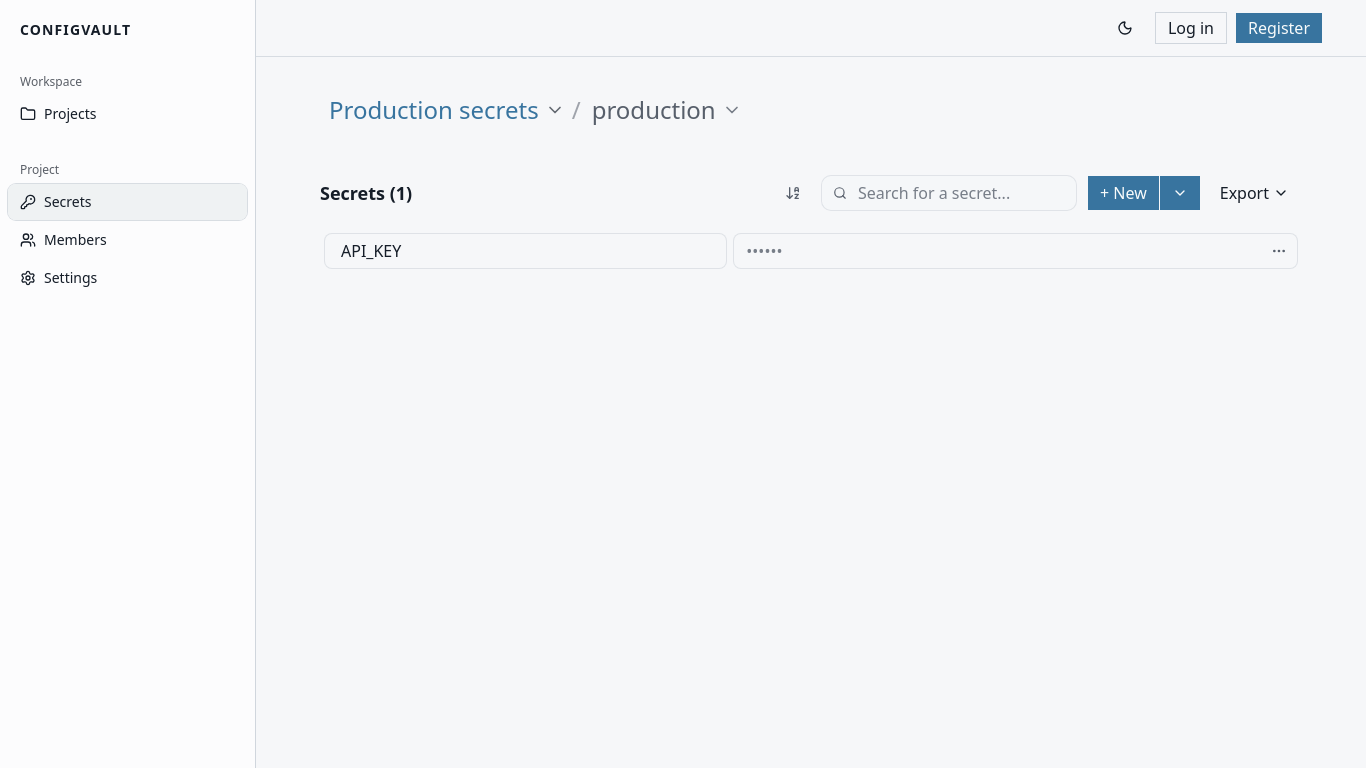
SecretsPage › clears unsaved edits after importing while editing
The image size is (1366, 768).
Click the button "+ New" at (1123, 193), box [1087,175,1160,211]
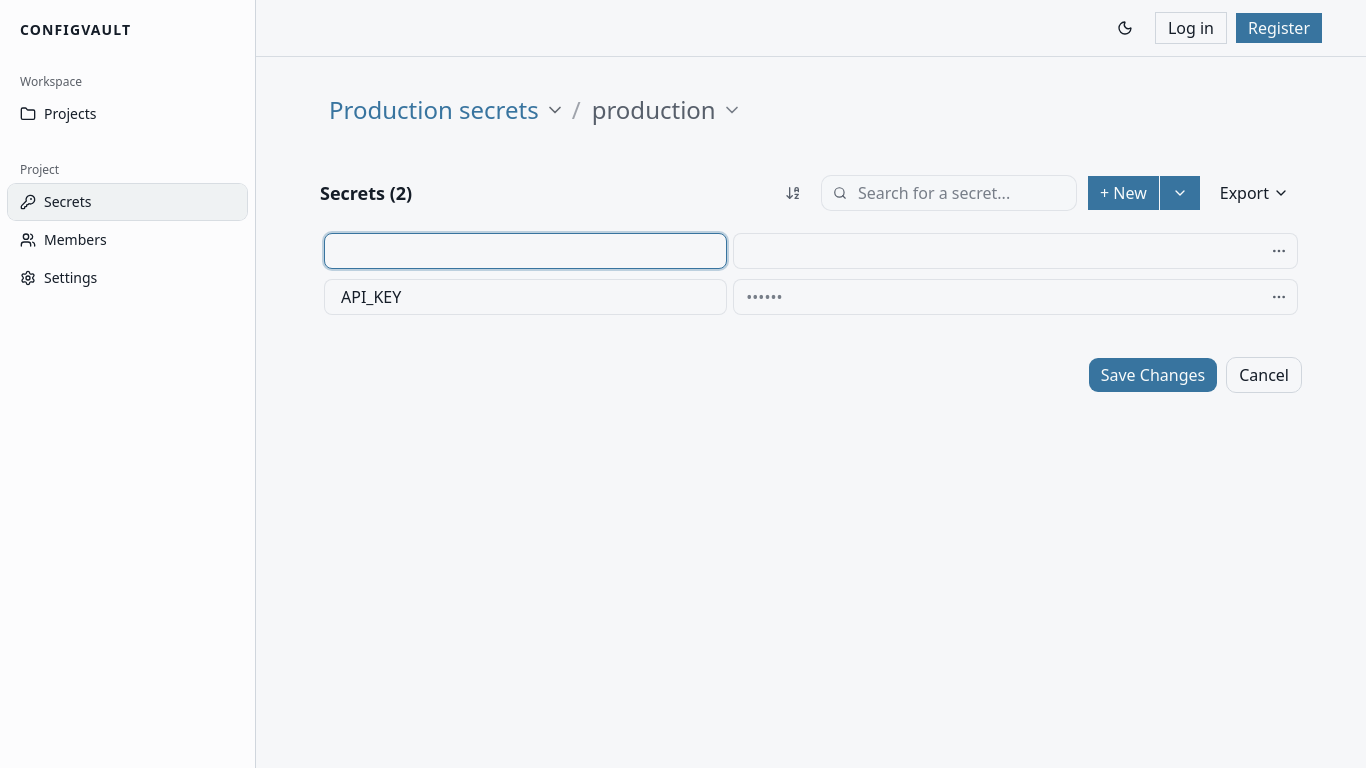
Check: the button "Save Changes" is shown, box [1088,357,1218,393]
Click the button named "Open add secret actions" at (1180, 193), box [1160,175,1201,211]
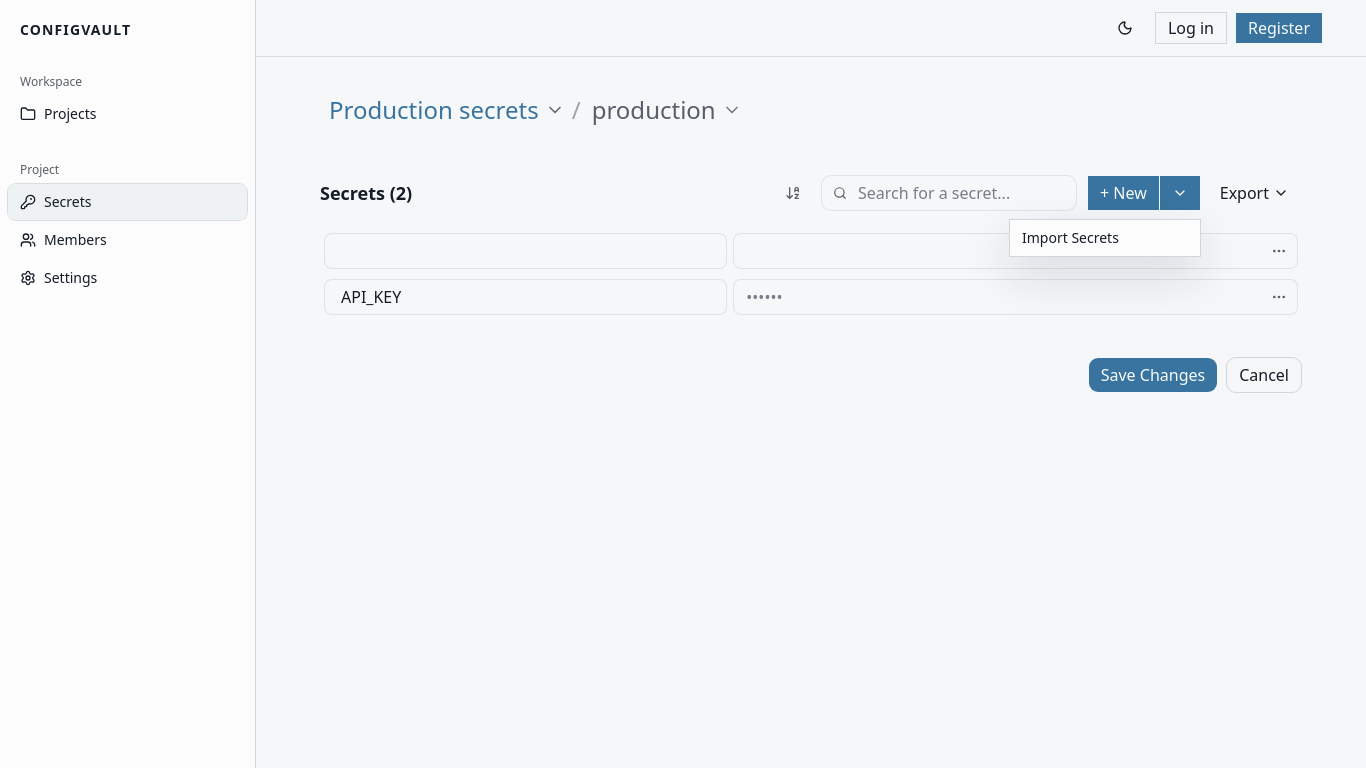
Click the menu item "Import Secrets" at (1070, 238), box [1022,228,1119,247]
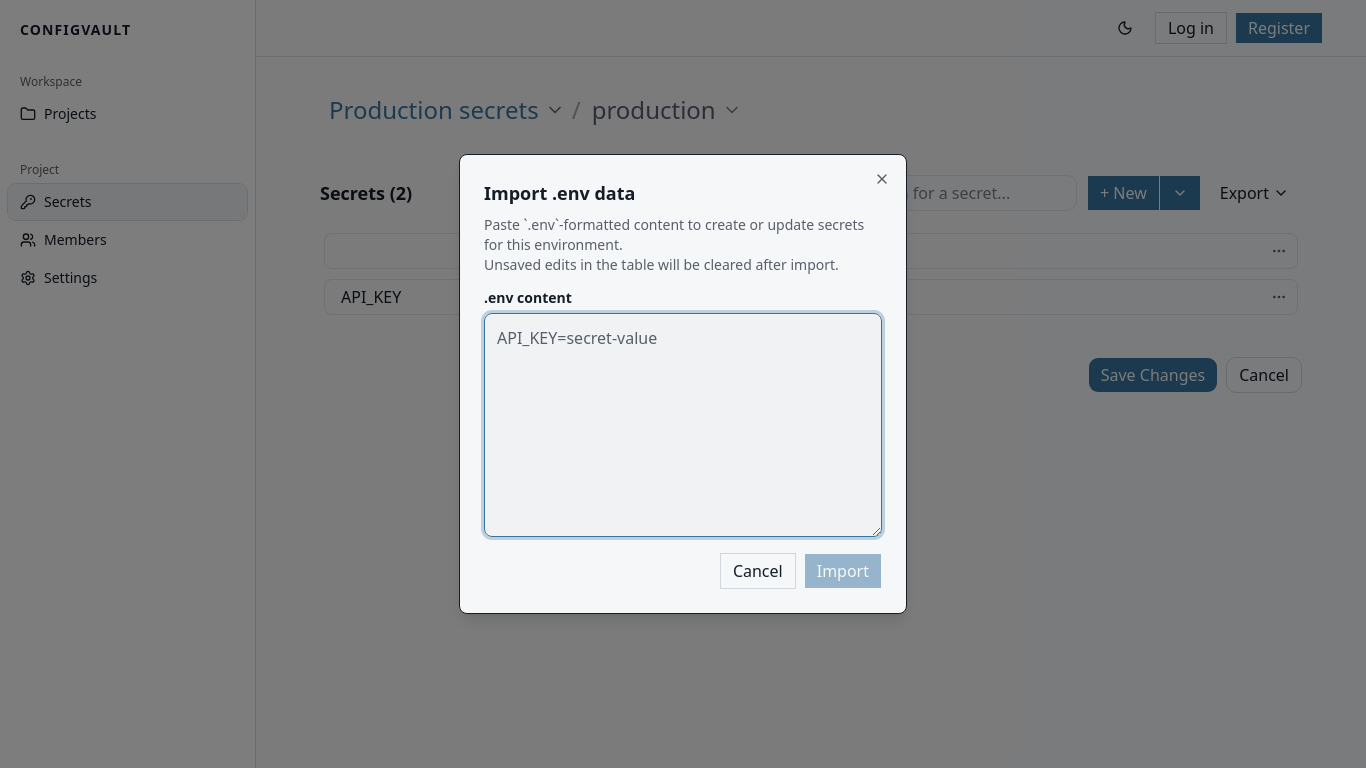
Check: the text "Unsaved edits in the table will be cleared after import." is shown, box [484,255,882,275]
Type "DATABASE_URL=postgres://localhost" into the text box labelled ".env content" at (683, 425), box [484,313,882,537]
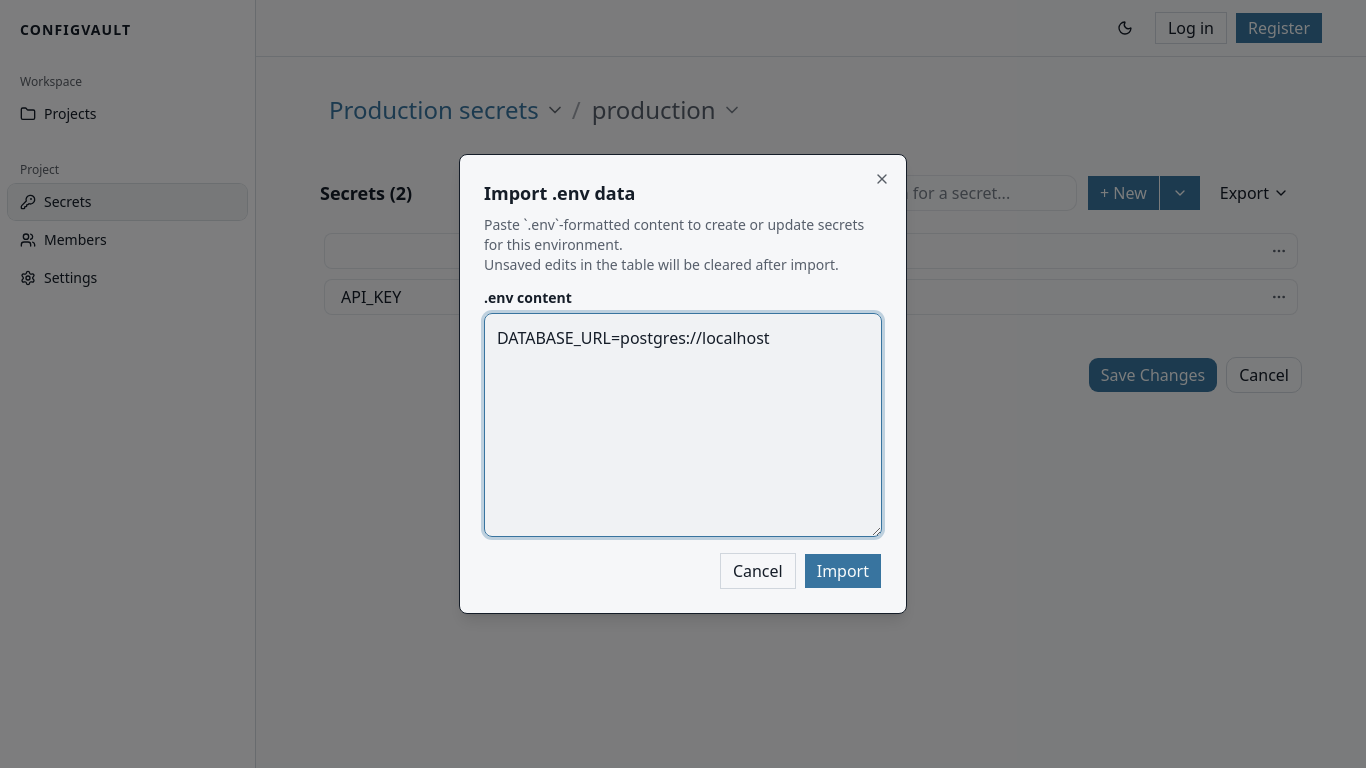
Click the button "Import" at (843, 571), box [804,553,882,589]
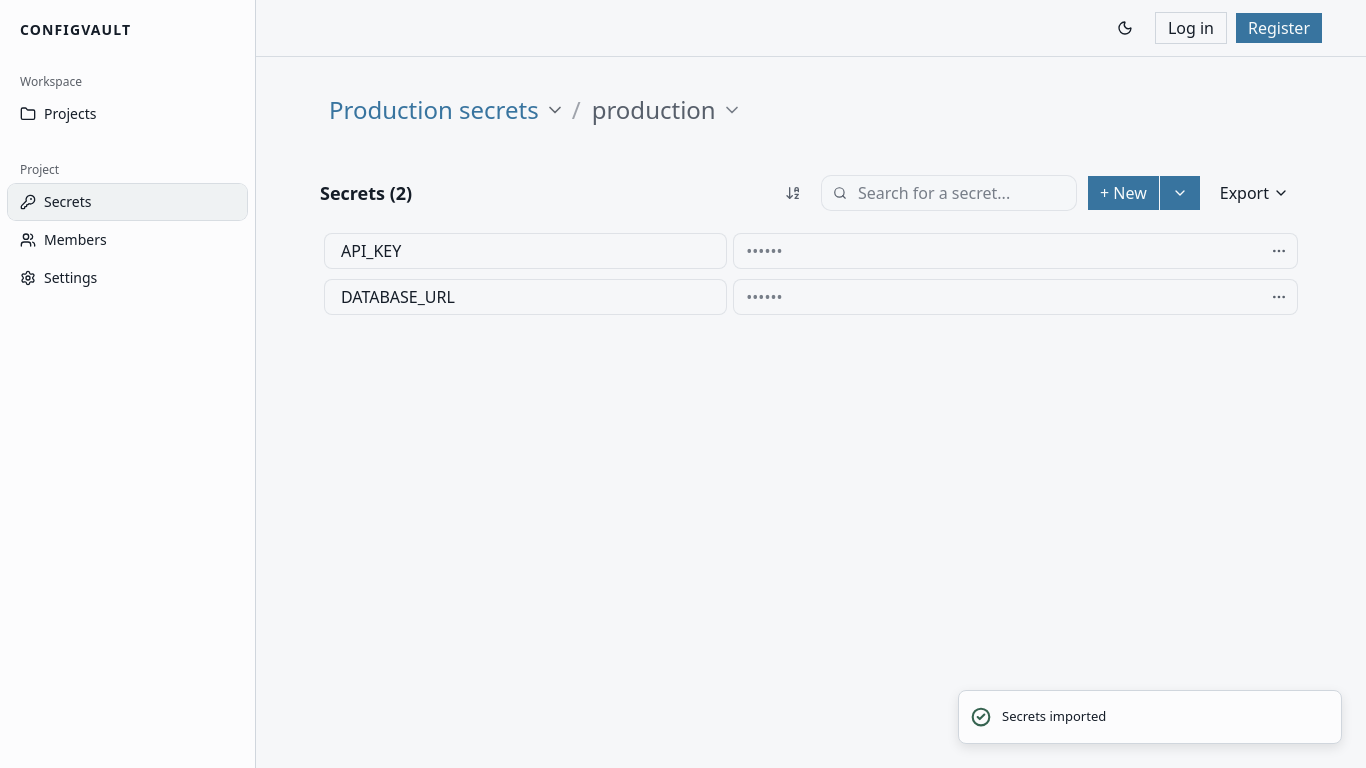
Check: the text "Secrets imported" is shown, box [1002,707,1106,727]
Check: the button "Save Changes" is gone
Check: the 2nd field showing "DATABASE_URL" is shown, box [324,279,727,315]
